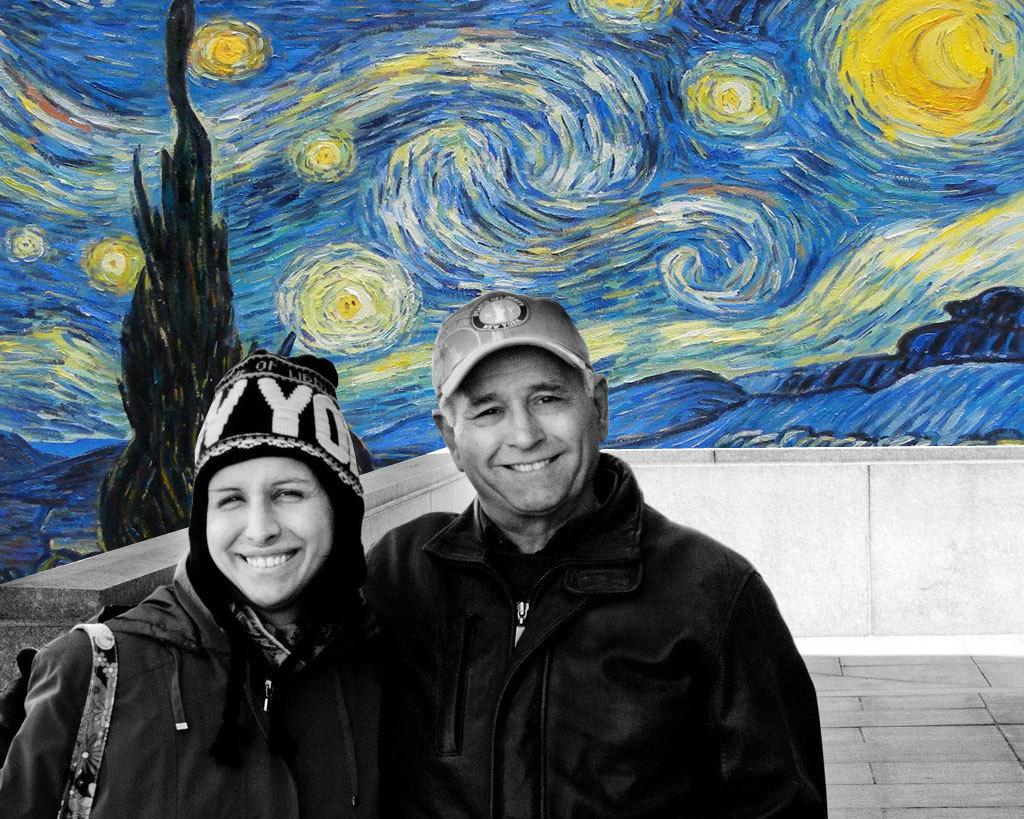Hat: (431, 292, 593, 406)
